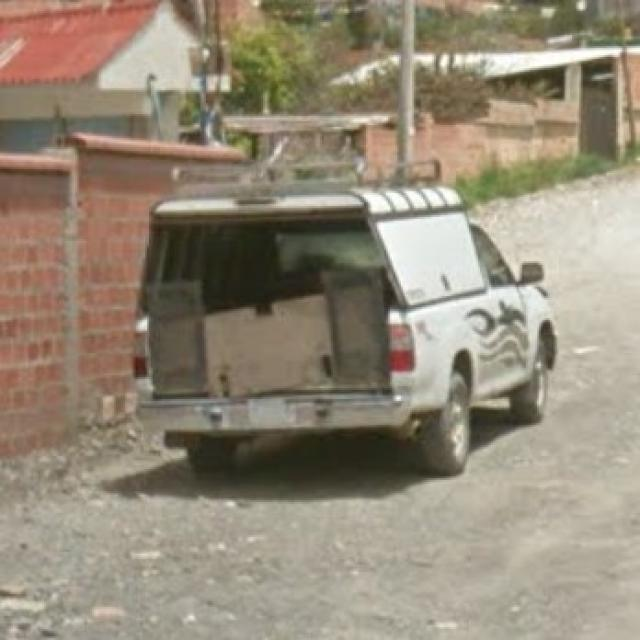cars: (140, 168, 556, 474)
